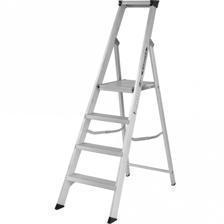Hand: (36, 43, 100, 217), (138, 78, 184, 219), (175, 94, 217, 218), (87, 103, 129, 223), (3, 101, 43, 221), (28, 130, 76, 221), (119, 135, 155, 218)
